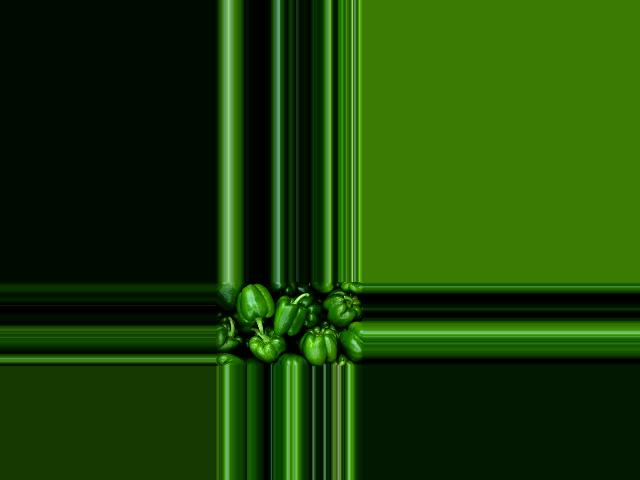bell_pepper: (215, 282, 248, 309)
